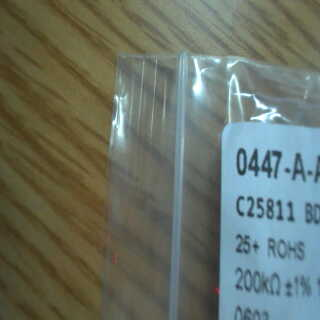200kR: (230, 266, 281, 298)
